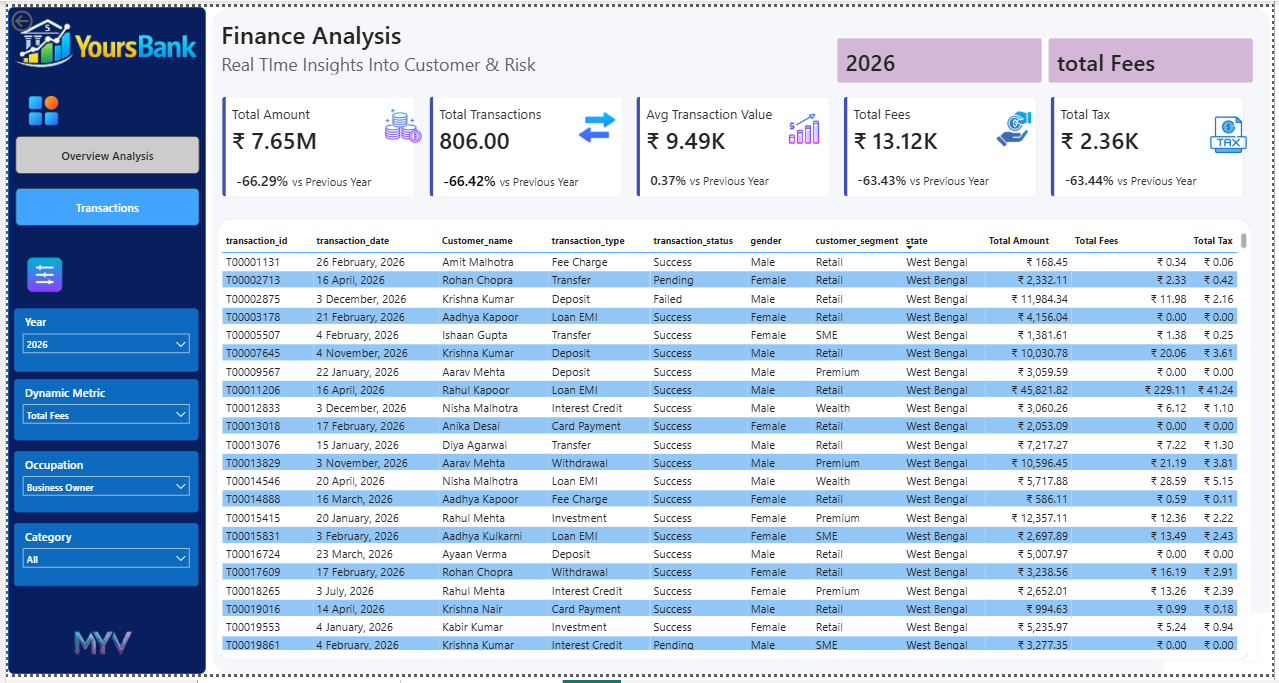

What the dashboard file says about the page in this screenshot:
{"tool":"powerbi","page":{"name":"Transactions","canvas":[1800,950],"ordinal":1},"visuals":[{"type":"shape","box":[0,0,281.8,950],"z":0},{"type":"shape","box":[290.9,0,1509.1,950],"z":1000},{"type":"image","box":[0,0,281.8,113.6],"z":2000},{"type":"cardVisual","fields":{"Data":["finance_transactions.Dashboard Title"]},"box":[279.5,0,634.1,113.6],"z":3000},{"type":"cardVisual","fields":{"Data":["finance_transactions.Total Amount","finance_transactions.Total Transactions","finance_transactions.Avg Transaction Value","finance_transactions.Total Fees","finance_transactions.Total Tax"]},"box":[300,122.7,1470.5,154.5],"z":4000},{"type":"cardVisual","fields":{"Data":["finance_transactions.Total Amount","finance_transactions.PY Amount","finance_transactions.YoY","finance_transactions.YoY % Amount"]},"box":[1647.7,863.6,152.3,86.4],"z":5000},{"type":"image","box":[520.5,143.2,84.1,52.3],"z":6000},{"type":"image","box":[797.7,145.5,84.1,52.3],"z":7000},{"type":"image","box":[1090.9,147.7,84.1,52.3],"z":8000},{"type":"image","box":[1390.9,147.7,84.1,52.3],"z":9000},{"type":"image","box":[1695.5,156.8,84.1,52.3],"z":10000},{"type":"shape","box":[300,302.3,1470.5,629.5],"z":11000},{"type":"cardVisual","fields":{"Data":["finance_transactions.Selected Year","finance_transactions.Selected Dynamic Measure"]},"box":[1175,38.6,604.5,75],"z":12000},{"type":"tableEx","fields":{"Values":["finance_transactions.transaction_id","finance_transactions.transaction_date","customers.Customer_name","finance_transactions.transaction_type","finance_transactions.transaction_status","customers.gender","customers.customer_segment","customers.state","finance_transactions.Total Amount","finance_transactions.Total Fees","finance_transactions.Total Tax"]},"box":[300,315.9,1470.5,604.5],"z":13000},{"type":"actionButton","box":[0,0,100,40],"z":14000},{"type":"slicer","fields":{"Values":["Calendar Table.Year"]},"box":[8.5,429.4,262.8,89.7],"z":15000},{"type":"slicer","fields":{"Values":["Dynamic Metric.Dynamic Metric"]},"box":[8.5,529.8,262.8,87.6],"z":16000},{"type":"slicer","fields":{"Values":["customers.occupation"]},"box":[8.5,632.4,262.8,87.6],"z":17000},{"type":"slicer","fields":{"Values":["finance_transactions.merchant_category"]},"box":[8.5,734.9,262.8,89.7],"z":18000},{"type":"pageNavigator","box":[10.7,183.7,262.8,128.2],"z":19000},{"type":"image","box":[9.1,122.7,84.1,52.3],"z":20000},{"type":"image","box":[10.7,354.7,83.3,53.4],"z":21000},{"type":"image","box":[0,863.1,269.2,85.5],"z":21001}]}

Visuals, with their boxes on the page's 1800x950 design canvas (x1, y1, x2, y2). These are canvas units, not pixel positions in the 1279x683 screenshot, which may show the page scaled, cropped or inside an application window:
shape: [left=0, top=0, right=282, bottom=950]
shape: [left=291, top=0, right=1800, bottom=950]
image: [left=0, top=0, right=282, bottom=114]
cardVisual - finance_transactions.Dashboard Title: [left=280, top=0, right=914, bottom=114]
cardVisual - finance_transactions.Total Amount x finance_transactions.Total Transactions: [left=300, top=123, right=1770, bottom=277]
cardVisual - finance_transactions.Total Amount x finance_transactions.PY Amount: [left=1648, top=864, right=1800, bottom=950]
image: [left=520, top=143, right=605, bottom=196]
image: [left=798, top=146, right=882, bottom=198]
image: [left=1091, top=148, right=1175, bottom=200]
image: [left=1391, top=148, right=1475, bottom=200]
image: [left=1696, top=157, right=1780, bottom=209]
shape: [left=300, top=302, right=1770, bottom=932]
cardVisual - finance_transactions.Selected Year x finance_transactions.Selected Dynamic Measure: [left=1175, top=39, right=1780, bottom=114]
tableEx - finance_transactions.transaction_id x finance_transactions.transaction_date: [left=300, top=316, right=1770, bottom=920]
actionButton: [left=0, top=0, right=100, bottom=40]
slicer - Calendar Table.Year: [left=8, top=429, right=271, bottom=519]
slicer - Dynamic Metric.Dynamic Metric: [left=8, top=530, right=271, bottom=617]
slicer - customers.occupation: [left=8, top=632, right=271, bottom=720]
slicer - finance_transactions.merchant_category: [left=8, top=735, right=271, bottom=825]
pageNavigator: [left=11, top=184, right=274, bottom=312]
image: [left=9, top=123, right=93, bottom=175]
image: [left=11, top=355, right=94, bottom=408]
image: [left=0, top=863, right=269, bottom=949]
